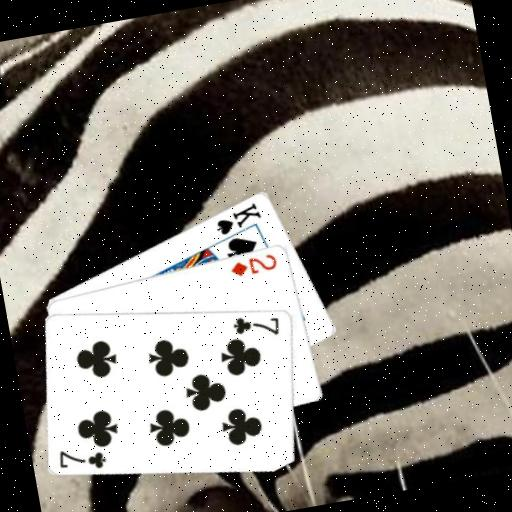2D: (227, 249, 280, 279)
7C: (54, 440, 109, 477), (228, 307, 283, 343)
KS: (209, 198, 265, 238)
